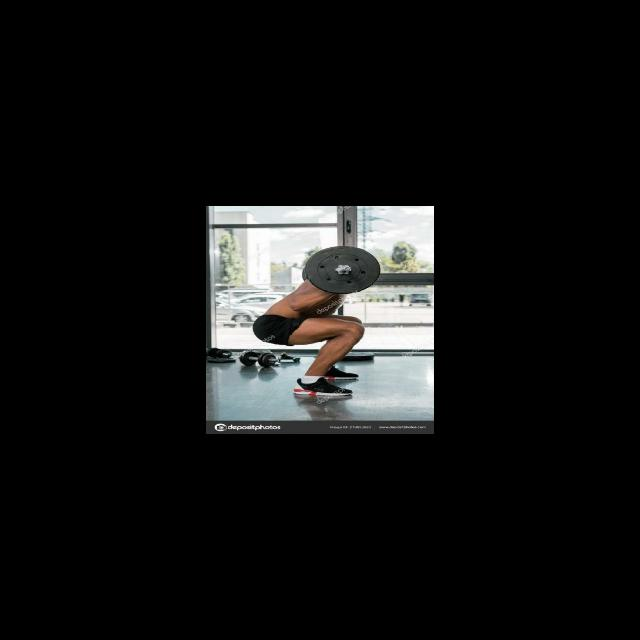barbell: (302, 245, 383, 296)
